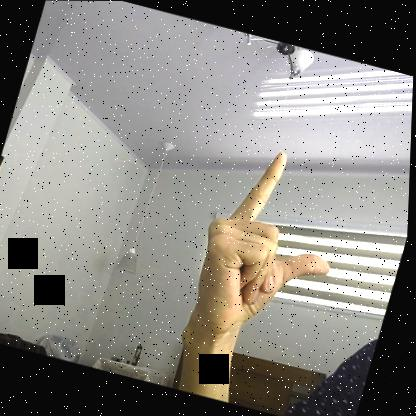L: (182, 139, 359, 356)
